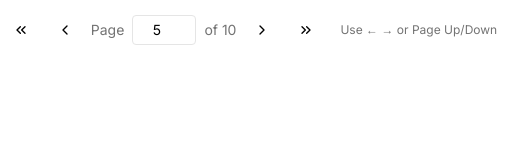
Test: Pager › Jump to Page (FR-003) › should reset to current page when invalid page number is entered
Replace the text in the number field named "jump to page" with "15" at (164, 30), box [132,15,196,45]
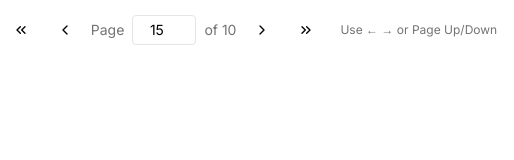
Leave the number field named "jump to page", box [132,15,196,45]
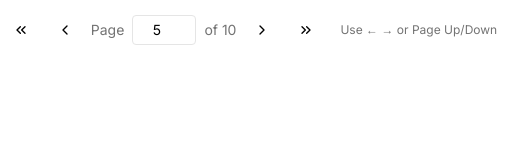
Expected: the number field named "jump to page" holds "5", [132,15,196,45]
